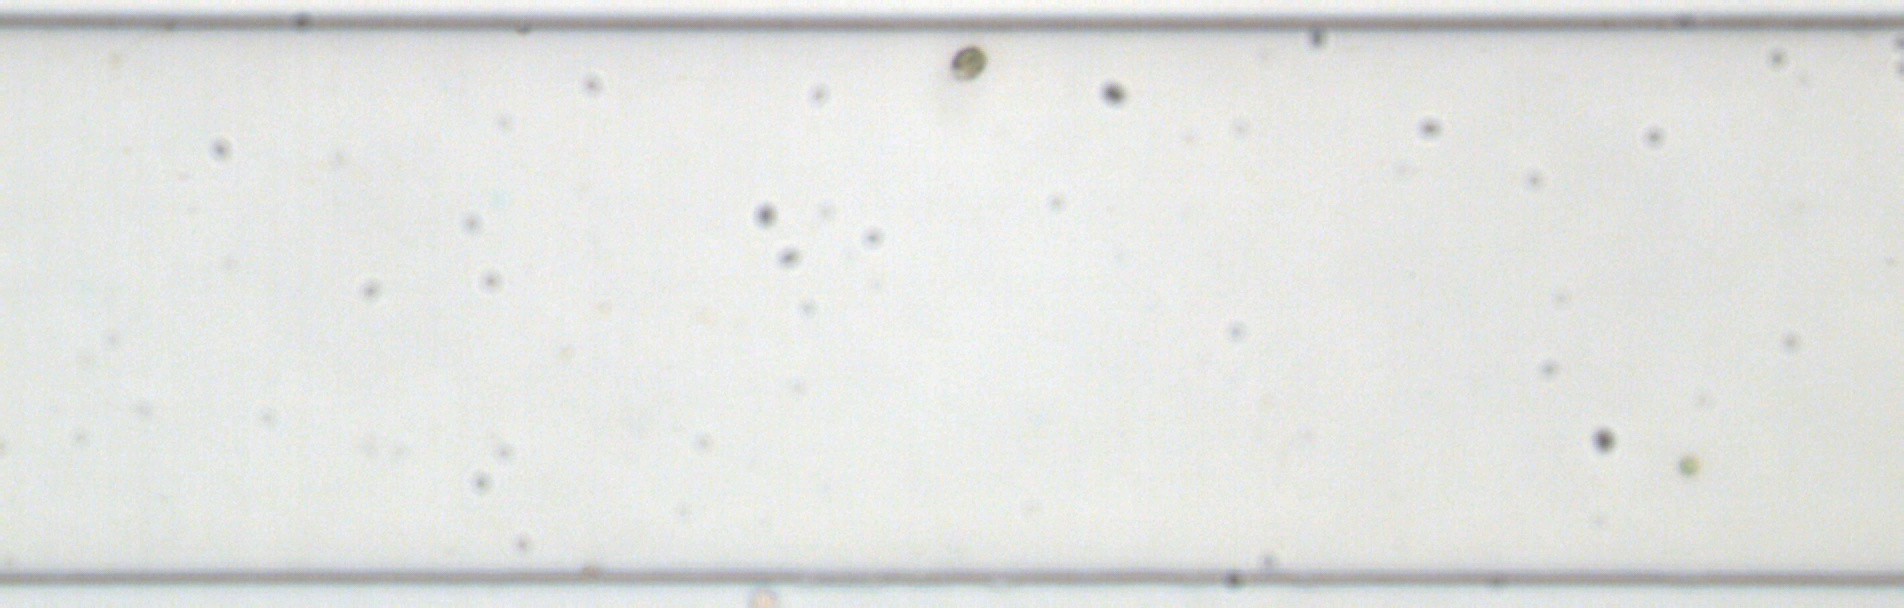Chlorella: (1676, 455, 1700, 477)
Dunaliella salina: (946, 42, 985, 81)
